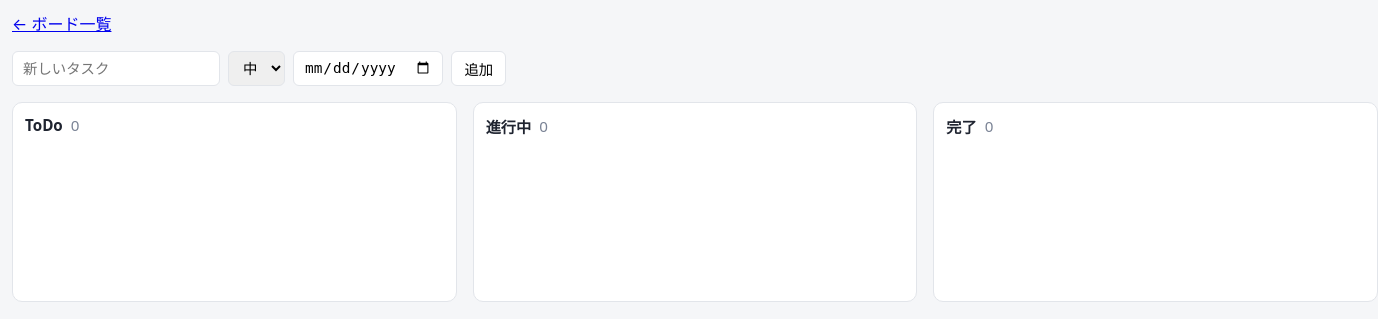
BoardPage › creates a task via the form
Type "New" into the field labelled "新しいタスク" at (116, 68), box top-left (12, 51), bottom-right (220, 86)
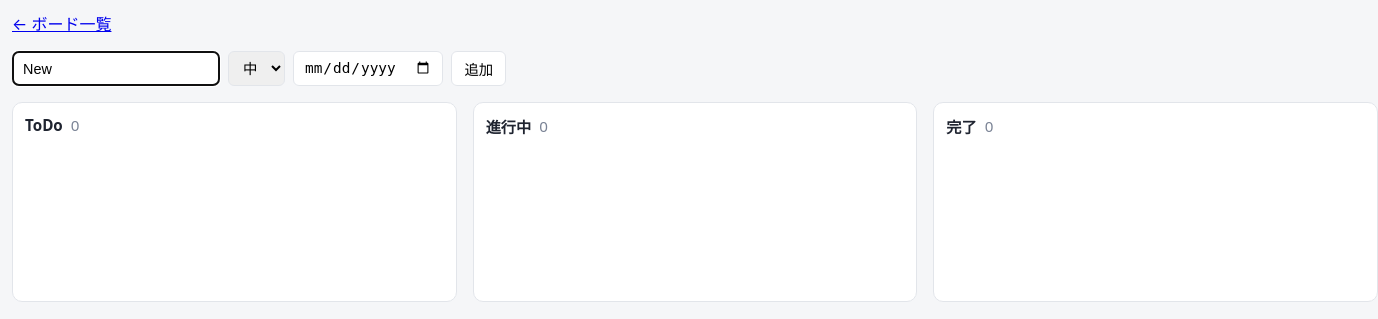
Click the button "追加" at (479, 68), box top-left (451, 51), bottom-right (506, 86)
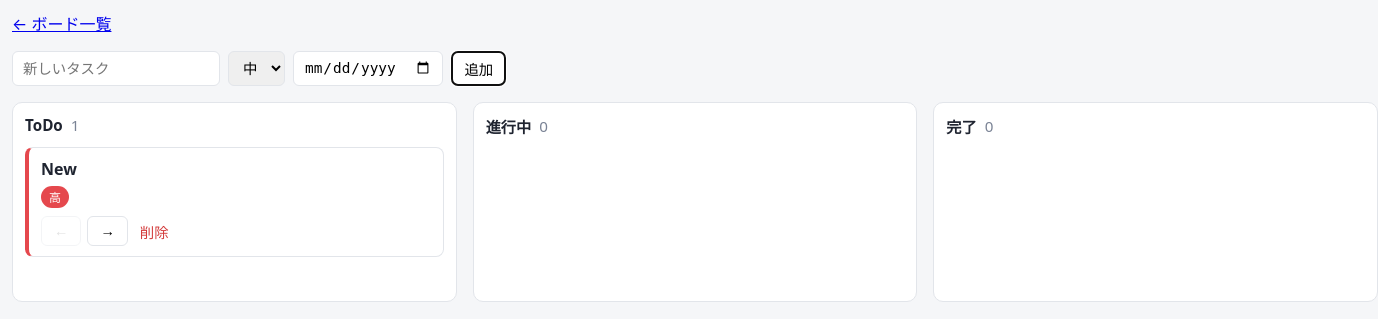
Expected: the text "New" is shown, top-left (41, 158), bottom-right (77, 180)
